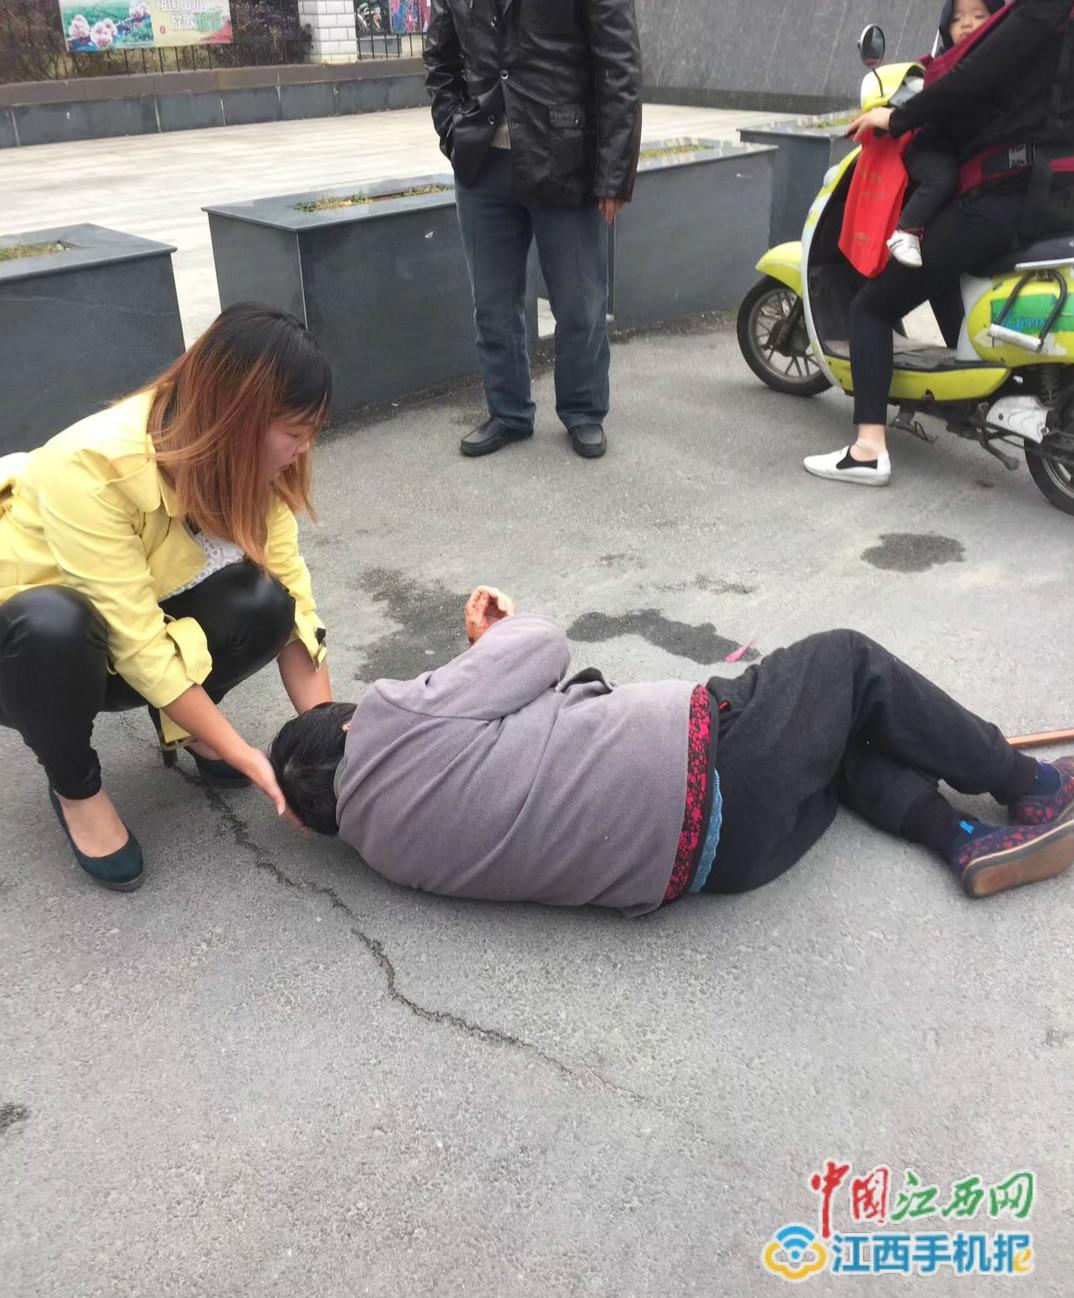falling: (280, 567, 1074, 933)
sitting: (20, 267, 357, 896), (858, 13, 1071, 533)
standing: (366, 1, 708, 528)
